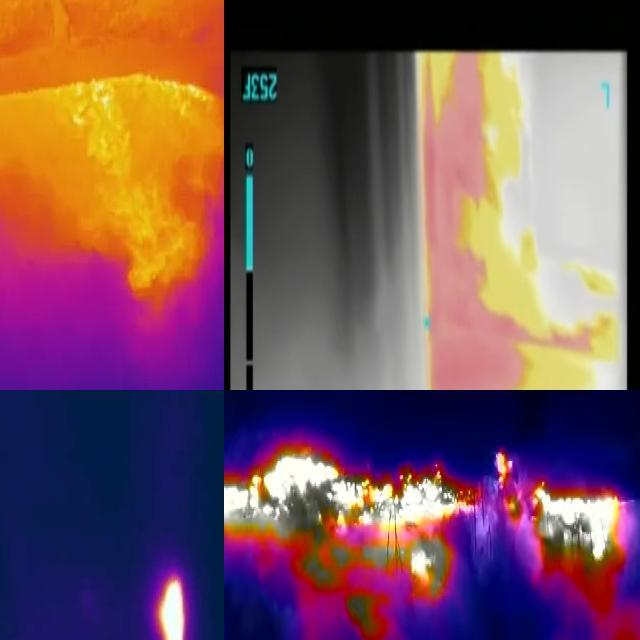fire: (415, 48, 618, 391), (1, 75, 225, 308), (225, 440, 487, 608), (493, 448, 631, 595), (157, 573, 186, 640)
